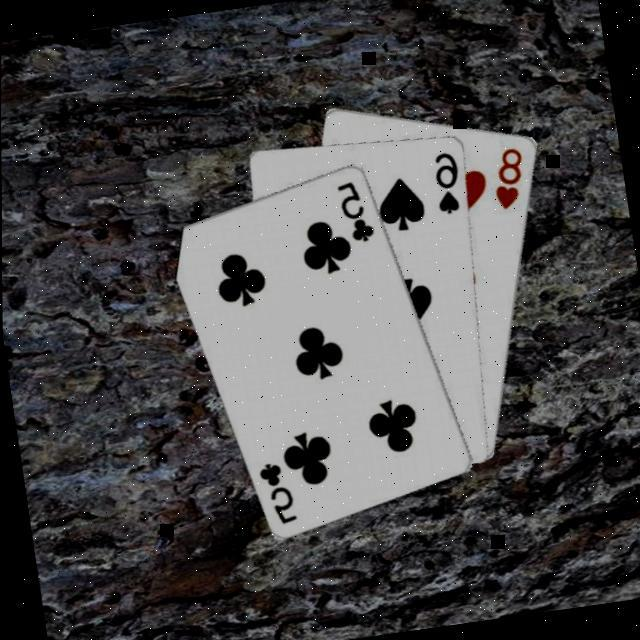5C: (255, 458, 301, 530), (334, 177, 379, 248)
6S: (430, 149, 469, 220)
8H: (487, 145, 534, 216)
